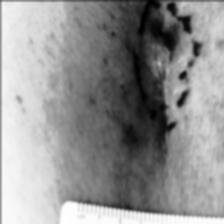Unclassified: (148, 28, 177, 81)
